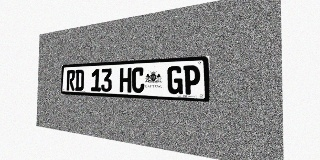1: (91, 69, 101, 91)
3: (101, 68, 112, 92)
C: (132, 67, 145, 93)
D: (75, 69, 84, 91)
G: (167, 66, 183, 94)
H: (119, 68, 132, 93)
P: (183, 65, 200, 95)
R: (66, 70, 75, 91)
